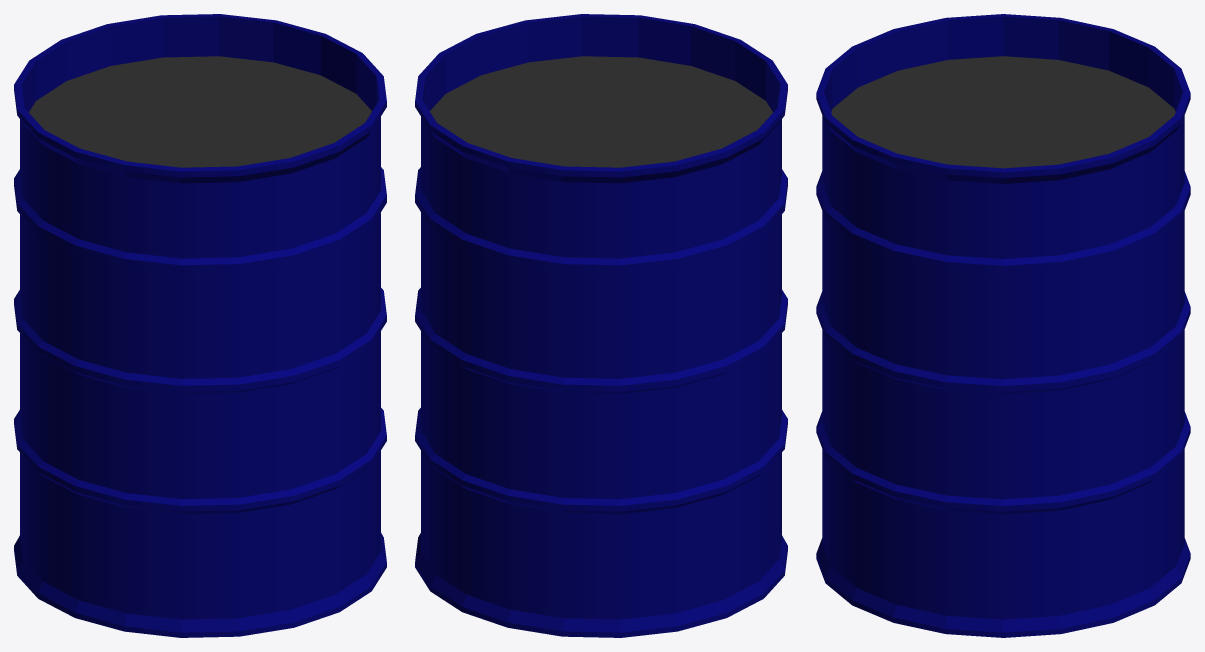
The model's file is Oil Drum_Full.fbx.
The picture shows the model from 3 angles, left to right: view 1: azimuth 30°, elevation 25°; view 2: azimuth 150°, elevation 25°; view 3: azimuth 270°, elevation 25°; orthographic projection.
Parts seen in each view (by area): view 1: pCylinder2; view 2: pCylinder2; view 3: pCylinder2.
Boxes of the visible parts, <box> form: pCylinder2: <box>14,14,386,637</box>; pCylinder2: <box>415,14,787,637</box>; pCylinder2: <box>816,14,1190,637</box>.
Bounding box in the file's own units: 7.53 × 10.35 × 7.53.
